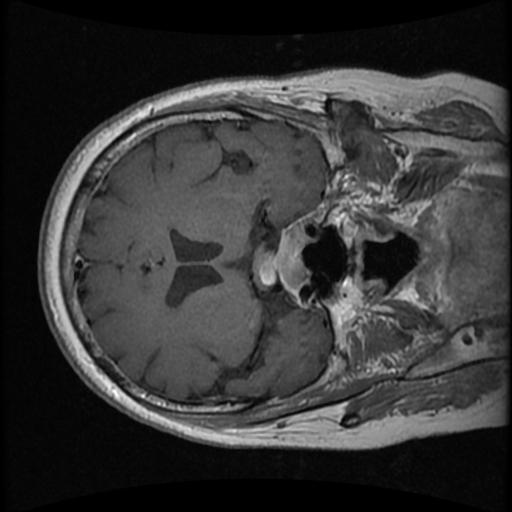pituitary tumour: (254, 227, 304, 288)
